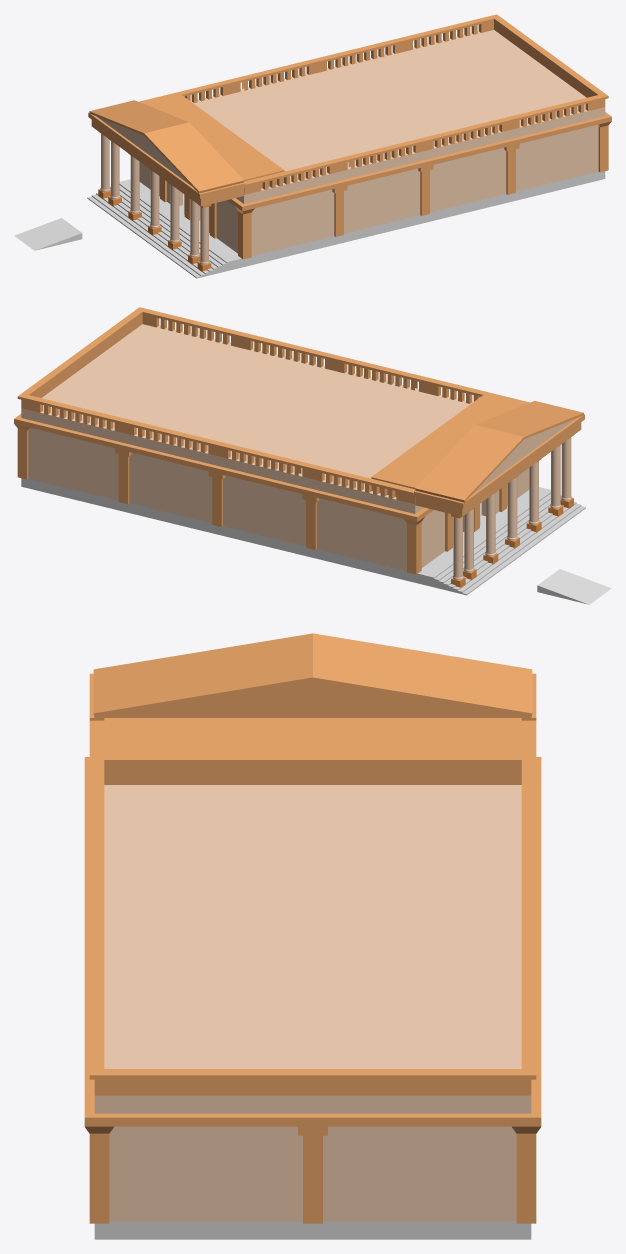
The model's file is ArtGallery.glb.
The picture shows the model from 3 angles, top to bottom: view 1: azimuth 30°, elevation 25°; view 2: azimuth 150°, elevation 25°; view 3: azimuth 270°, elevation 25°; orthographic projection. The views are drawn at different scales.
Visible parts, largest first — view 1: InteriorWalls, GalleryBuilding, FrontRoof, RoofRailing, OuterStairs, InteriorFloor, OuterWallRidge, TestRamp, OuterWallCornerColumn, Pillar.001, Pillar, Pillar.004 (+8 smaller); view 2: InteriorWalls, GalleryBuilding, FrontRoof, RoofRailing, OuterStairs, InteriorFloor, OuterWallRidge, TestRamp, OuterWallCornerColumn.003, Pillar, Pillar.006, Pillar.003 (+8 smaller); view 3: InteriorWalls, FrontRoof, GalleryBuilding, RoofRailing, OuterWallRidge, InteriorFloor, OuterWallCornerColumn.001, OuterWallCornerColumn.002, OuterWallColumns.006.
Boxes of the visible parts, x1,y1,x2,y2 form: InteriorWalls: [179, 30, 605, 255]; GalleryBuilding: [139, 125, 596, 255]; FrontRoof: [88, 94, 284, 206]; RoofRailing: [139, 14, 608, 194]; OuterStairs: [87, 179, 243, 278]; InteriorFloor: [179, 171, 605, 266]; OuterWallRidge: [227, 112, 611, 211]; TestRamp: [14, 218, 82, 250]; OuterWallCornerColumn: [235, 206, 254, 259]; Pillar.001: [128, 153, 141, 221]; Pillar: [148, 168, 161, 235]; Pillar.004: [168, 182, 181, 250]; InteriorWalls: [21, 324, 485, 570]; GalleryBuilding: [30, 428, 529, 570]; FrontRoof: [371, 394, 584, 516]; RoofRailing: [17, 307, 529, 503]; OuterStairs: [415, 487, 585, 595]; InteriorFloor: [21, 478, 485, 582]; OuterWallRidge: [14, 414, 433, 521]; TestRamp: [537, 569, 611, 604]; OuterWallCornerColumn.003: [404, 517, 424, 574]; Pillar: [505, 475, 519, 548]; Pillar.006: [560, 435, 573, 508]; Pillar.003: [451, 514, 465, 588]; InteriorWalls: [94, 785, 531, 1113]; FrontRoof: [89, 633, 536, 784]; GalleryBuilding: [109, 1126, 516, 1221]; RoofRailing: [89, 720, 536, 1095]; OuterWallRidge: [84, 757, 541, 1126]; InteriorFloor: [94, 1221, 531, 1239]; OuterWallCornerColumn.001: [512, 1126, 540, 1223]; OuterWallCornerColumn.002: [85, 1126, 113, 1223]; OuterWallColumns.006: [298, 1126, 327, 1223].
Size of what is drawn, in the model's own units: 58.8 by 11.66 by 23.
Materials: 3 (1 with a texture image).
